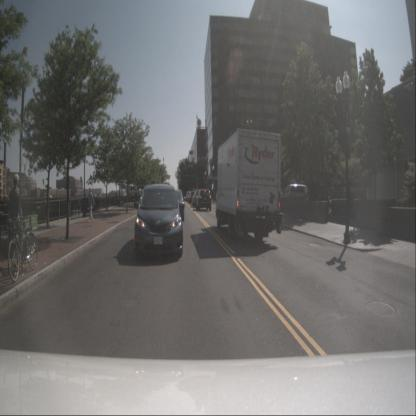human-pedestrian-adult: (9, 173, 24, 267), (347, 186, 356, 230), (87, 188, 95, 223)
vehicle-bicycle: (4, 217, 38, 282)
vehicle-car: (134, 184, 182, 260), (166, 189, 184, 221), (284, 184, 308, 202), (196, 189, 211, 211), (193, 190, 201, 207), (189, 191, 195, 204), (186, 191, 192, 202)
vehicle-truck: (216, 129, 282, 241)
